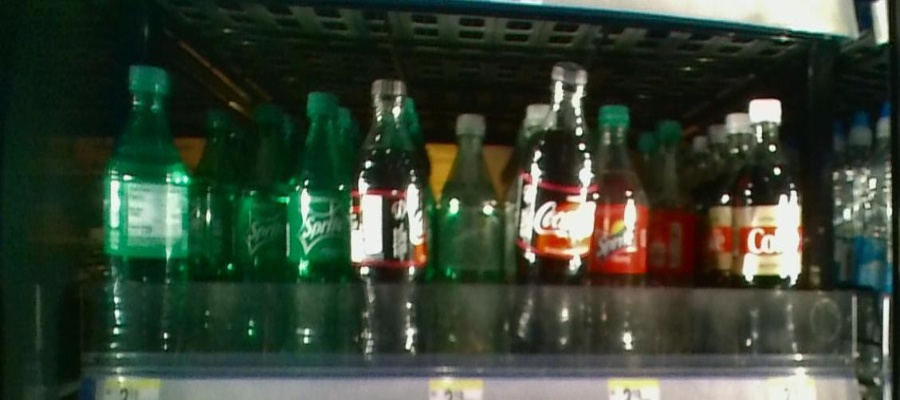bottle: (101, 58, 190, 369), (521, 57, 596, 375), (728, 102, 813, 369), (355, 73, 429, 372), (434, 106, 504, 368), (227, 94, 287, 366), (292, 96, 350, 371), (592, 104, 650, 364), (650, 116, 700, 371)
